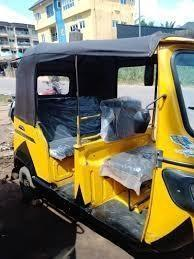keke: (9, 36, 194, 258)
